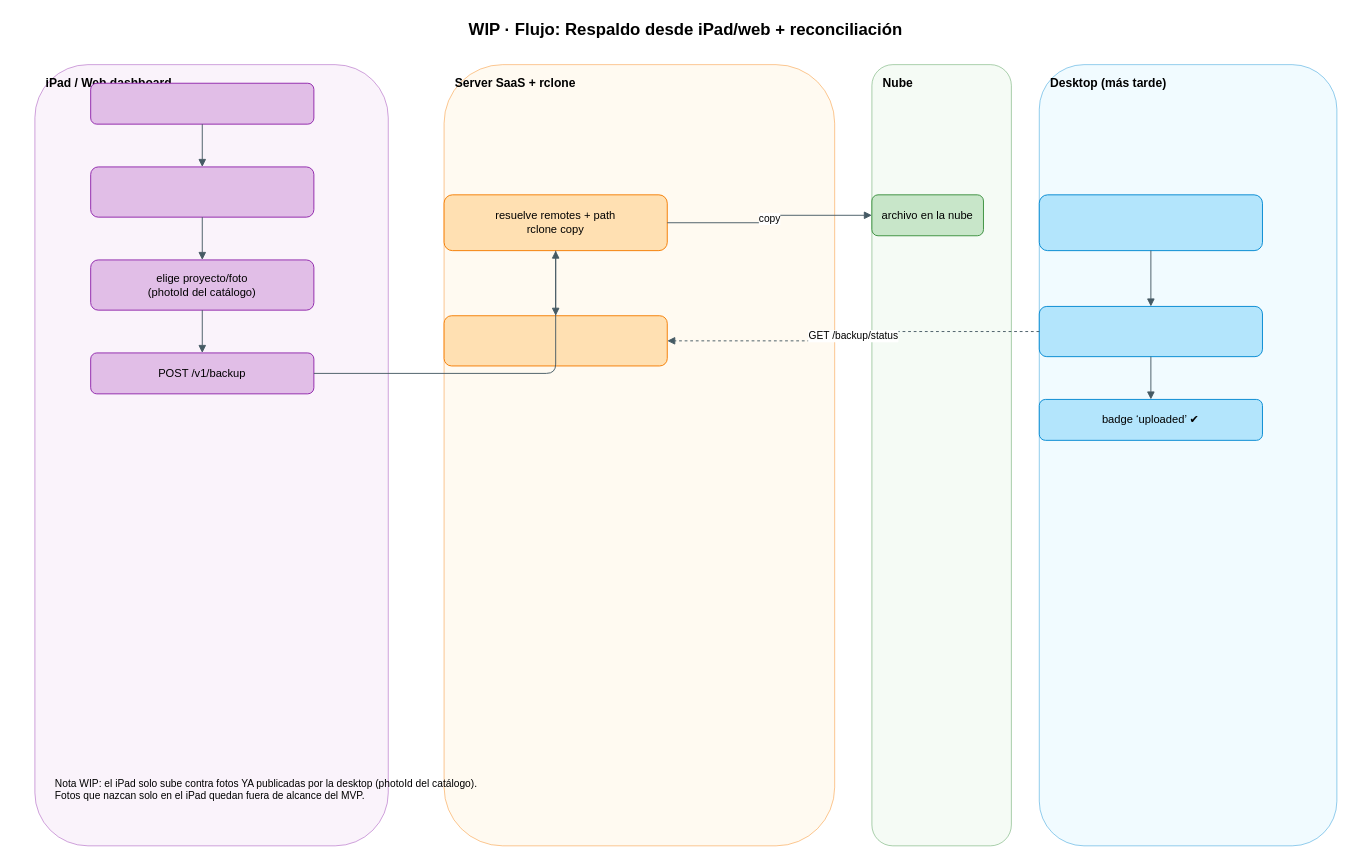
Image size: 1371x862. Some labels were removed from this diagram. Here are the shapes that lost their labels. From the top down, the centre of each, then its label:
At [202,103]: "login → JWT".
At [202,191]: "GET /v1/projects (solo del fotógrafo)".
At [1150,222]: "abre proyecto (disco) ensure_catalog_synced".
At [555,340]: "actualiza catalog backup_status=uploaded".
At [1150,331]: "reconcile: pull backup_status".
